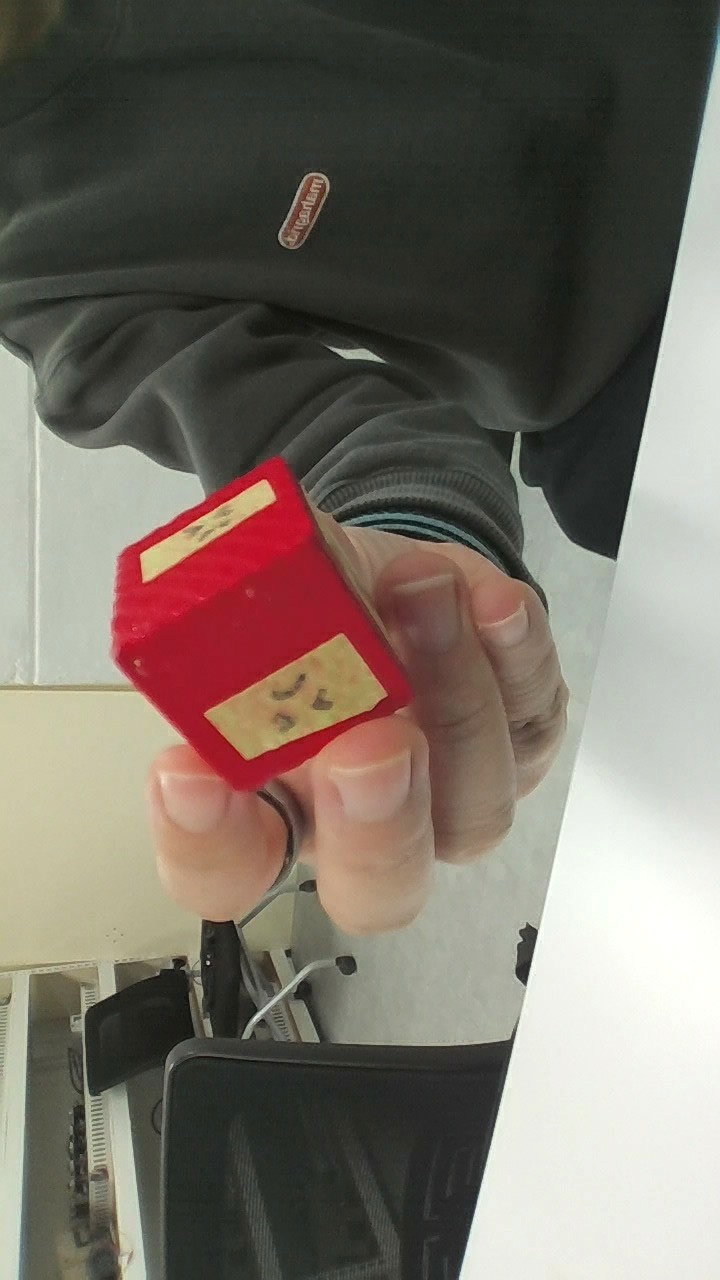Error: (61, 597, 321, 874)
